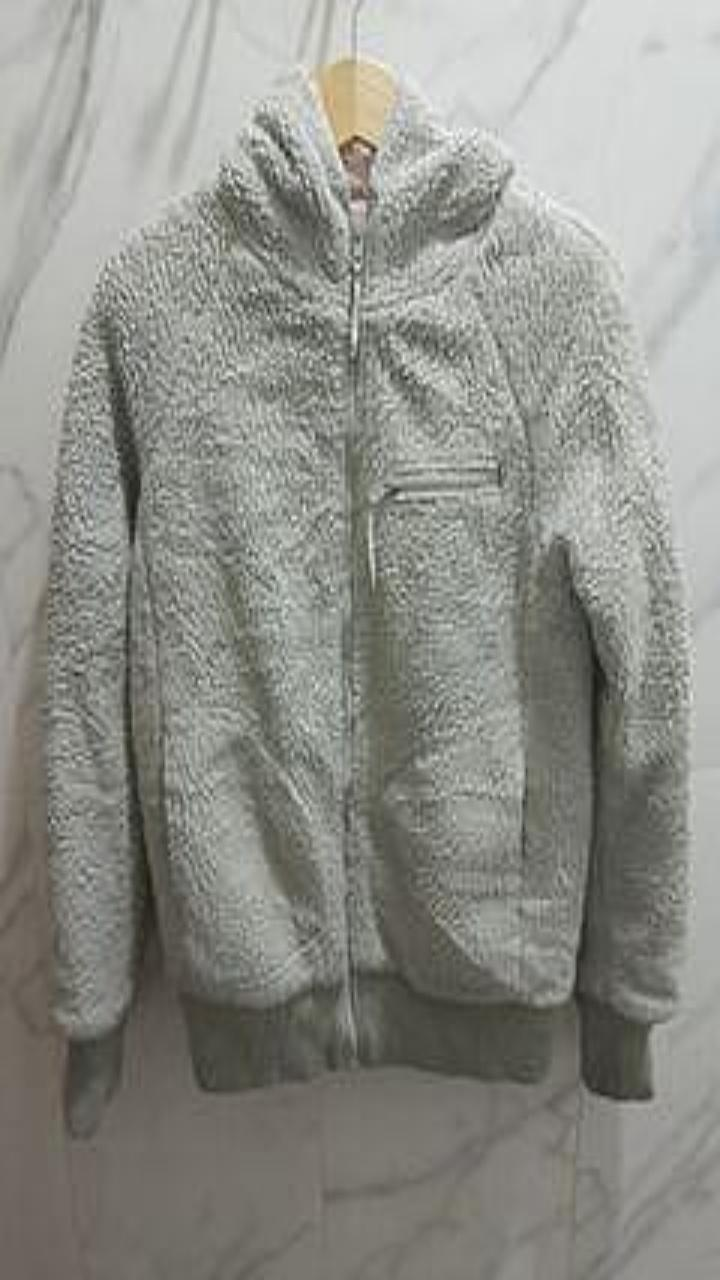Sports_Jacket: (43, 63, 690, 1128)
